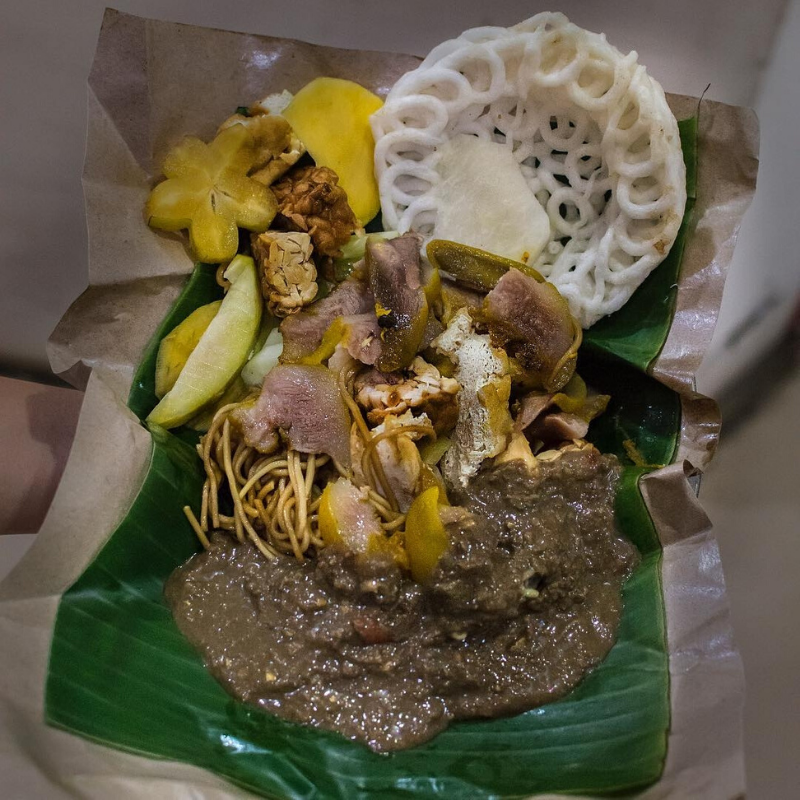rujak_cingur: (151, 10, 689, 752)
